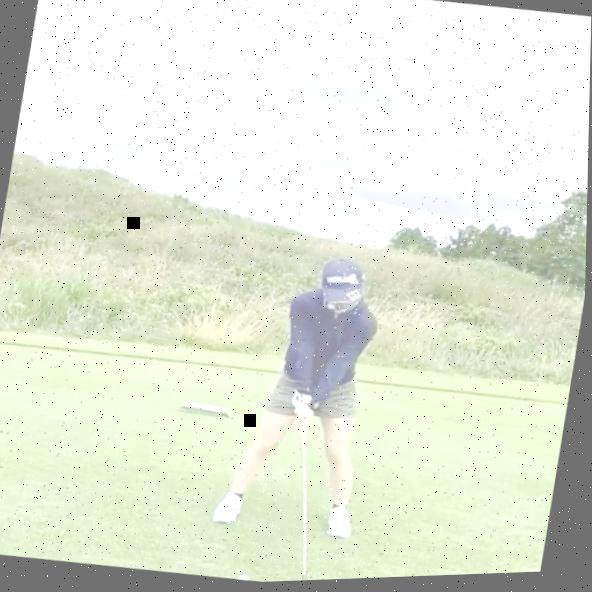GolfBall: (238, 576, 254, 583)
